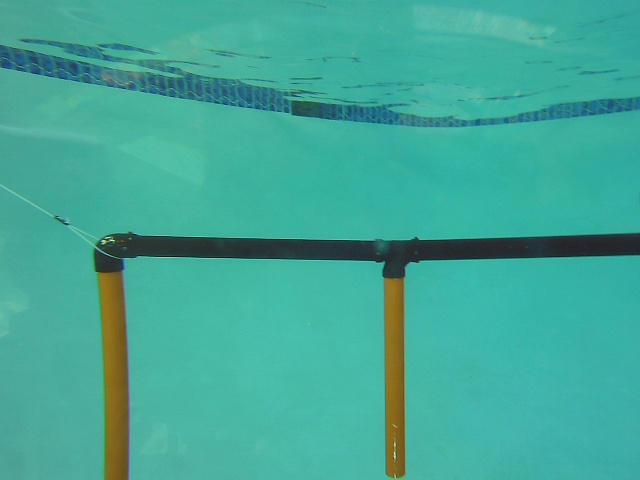Gate: (92, 264, 131, 480), (380, 269, 411, 480)
